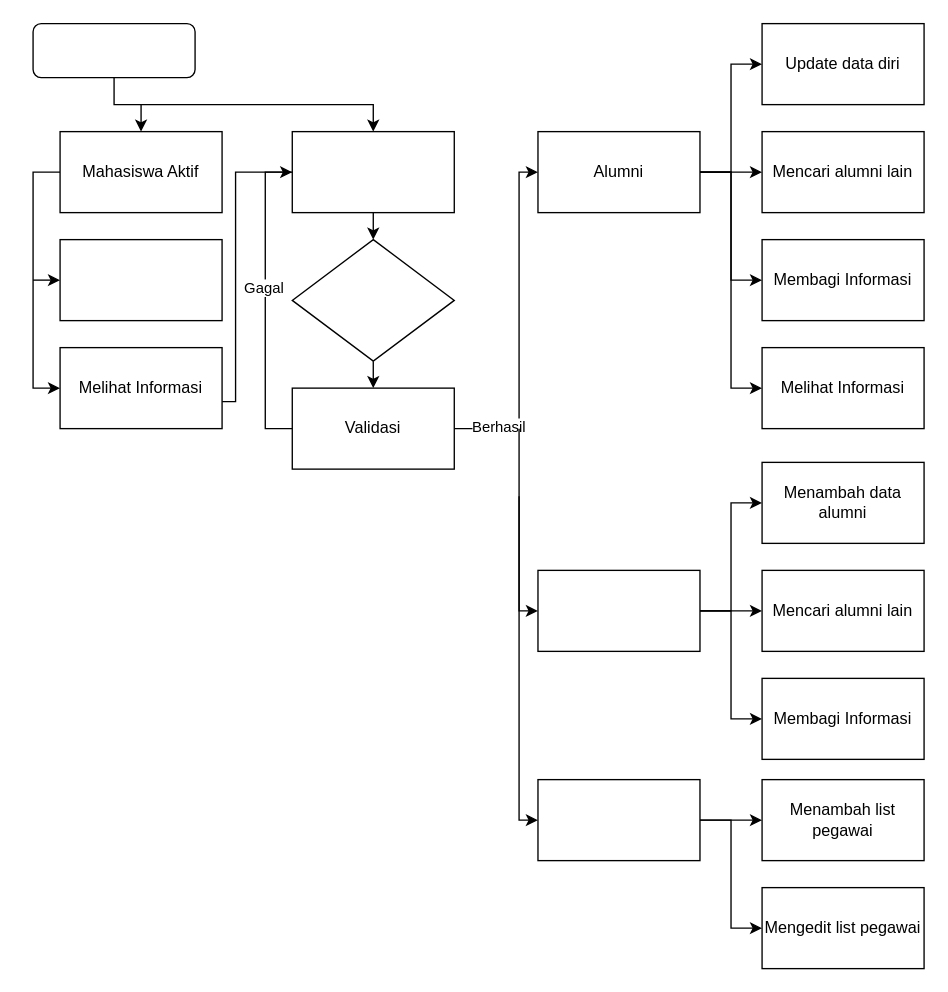
Some shapes in this 948 by 992 pixel diagram are drawn without their labels. Each missing label, with the centre of its shape:
"Admin" goes at [618,819].
"Input NIM & kata sandi" goes at [372,299].
"Login" goes at [372,171].
"Mencari Alumni" goes at [140,279].
"Pegawai" goes at [618,610].
"Start" goes at [113,50].
